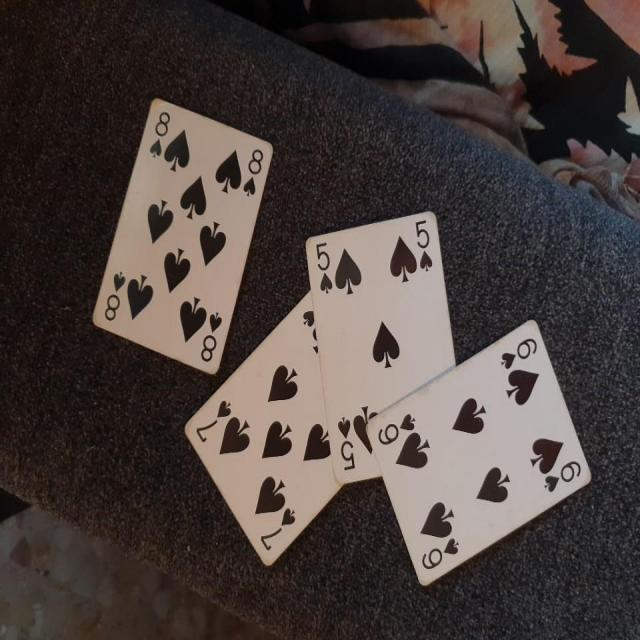5 of spades: (302, 202, 473, 492)
6 of spades: (363, 306, 604, 606)
7 of spades: (179, 290, 389, 578)
8 of spades: (88, 82, 266, 376)
